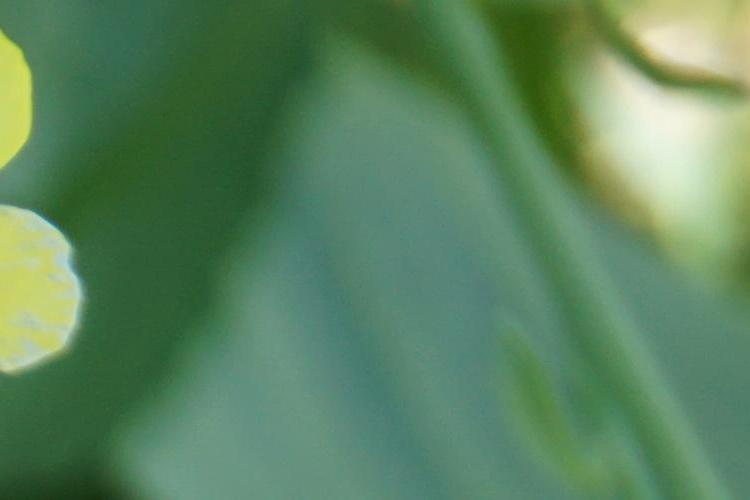yellow: (2, 35, 95, 390)
